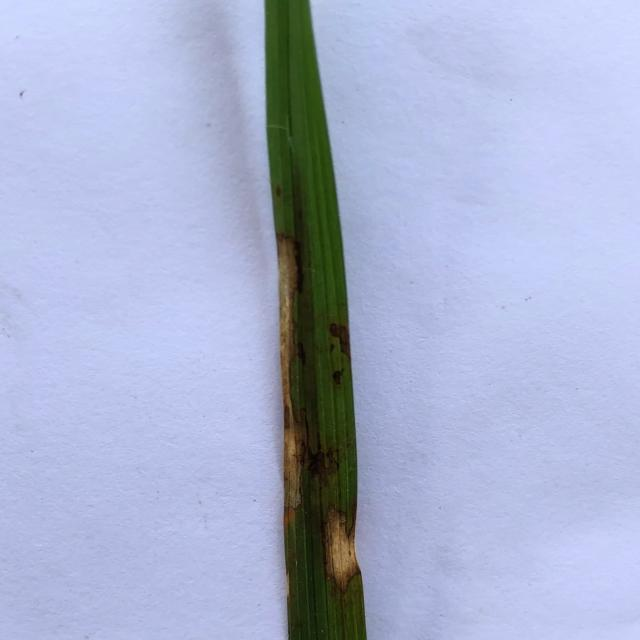leaf blight: (281, 237, 310, 526), (326, 523, 356, 584)
